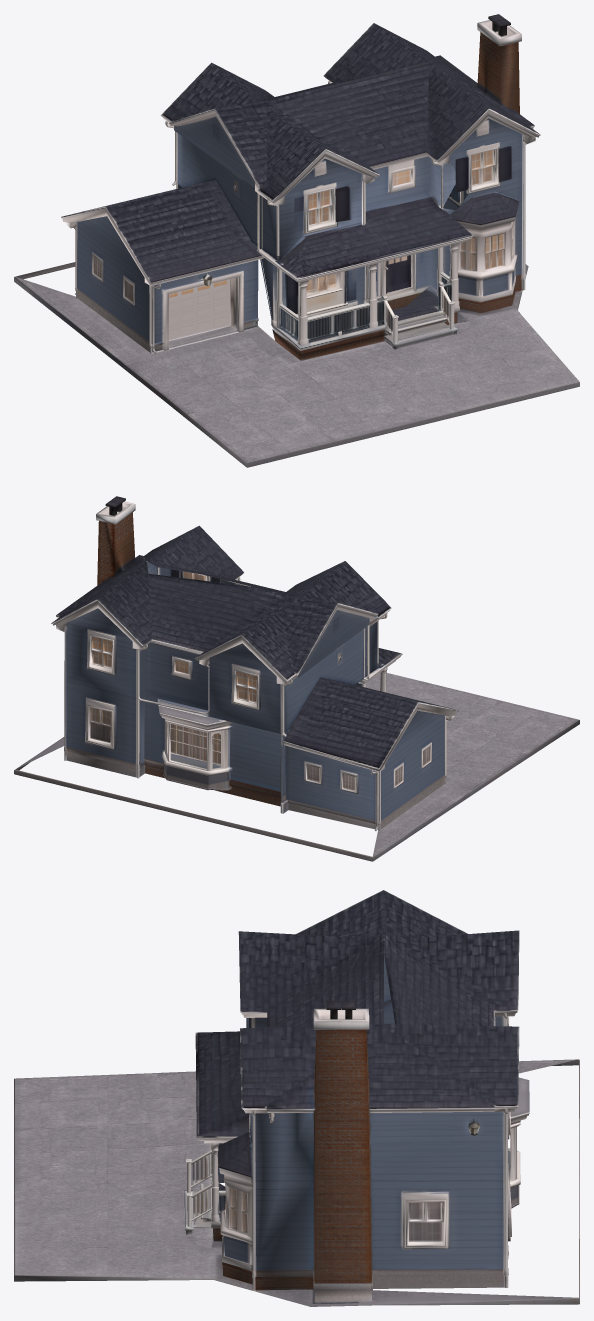
File: House2.fbx
3 renders of one model, top to bottom at view 1: azimuth 30°, elevation 25°; view 2: azimuth 150°, elevation 25°; view 3: azimuth 270°, elevation 25°, orthographic. The views are drawn at different scales.
Parts seen in each view (by area): view 1: tripo_node_f082febd; view 2: tripo_node_f082febd; view 3: tripo_node_f082febd.
Part boxes in pixels (box(x1,y1,x2,y2)): tripo_node_f082febd: box(14, 14, 579, 467); tripo_node_f082febd: box(14, 496, 579, 861); tripo_node_f082febd: box(14, 890, 579, 1306).
Size of the model in its own units: 99.95 by 99.95 by 60.3.
Materials: 1 (1 with a texture image).
